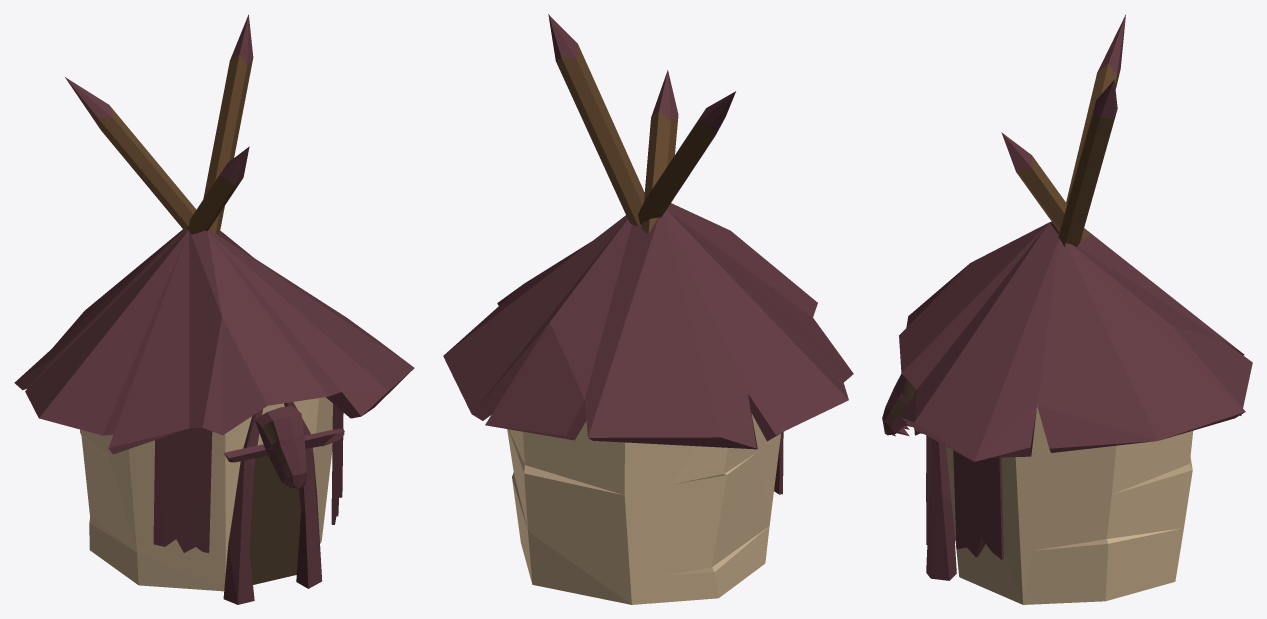
Rendered from SM_Hut_Tribal_Tier1.fbx.
3 views of the same model, side by side, from view 1: azimuth 30°, elevation 25°; view 2: azimuth 150°, elevation 25°; view 3: azimuth 270°, elevation 25° (orthographic). The views are drawn at different scales.
Visible parts, largest first — view 1: SM_Hut_Tribal_Tier1; view 2: SM_Hut_Tribal_Tier1; view 3: SM_Hut_Tribal_Tier1.
Part boxes in pixels (<box>): SM_Hut_Tribal_Tier1: <box>14,14,414,604</box>; SM_Hut_Tribal_Tier1: <box>443,14,853,604</box>; SM_Hut_Tribal_Tier1: <box>882,14,1252,604</box>.
Bounding box in the file's own units: 5.43 × 7.63 × 5.01.
